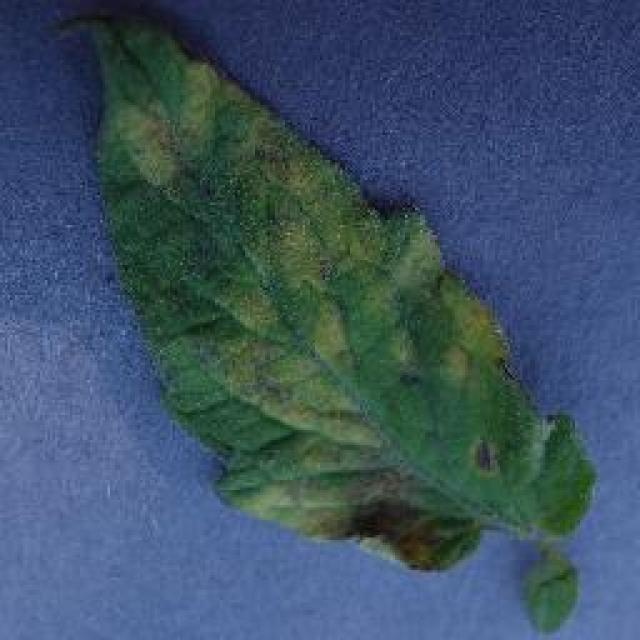Tomato mold leaf: (79, 9, 604, 574)
